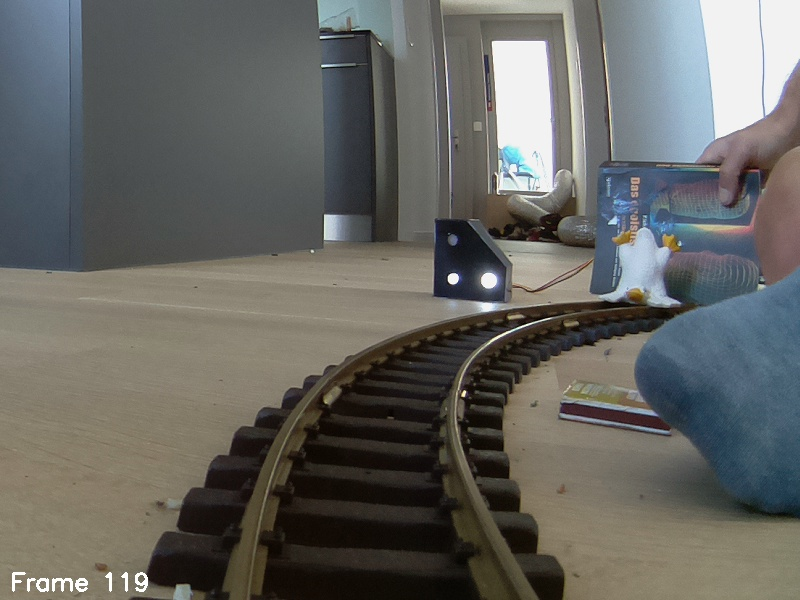Ente: (597, 226, 683, 314)
Halt: (435, 219, 511, 305)
